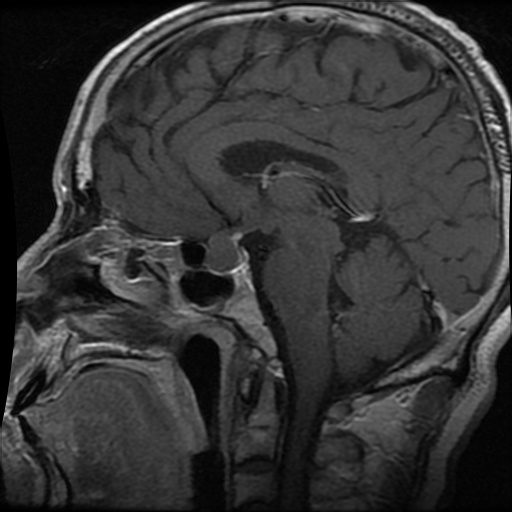pituitary: (206, 231, 243, 273)
